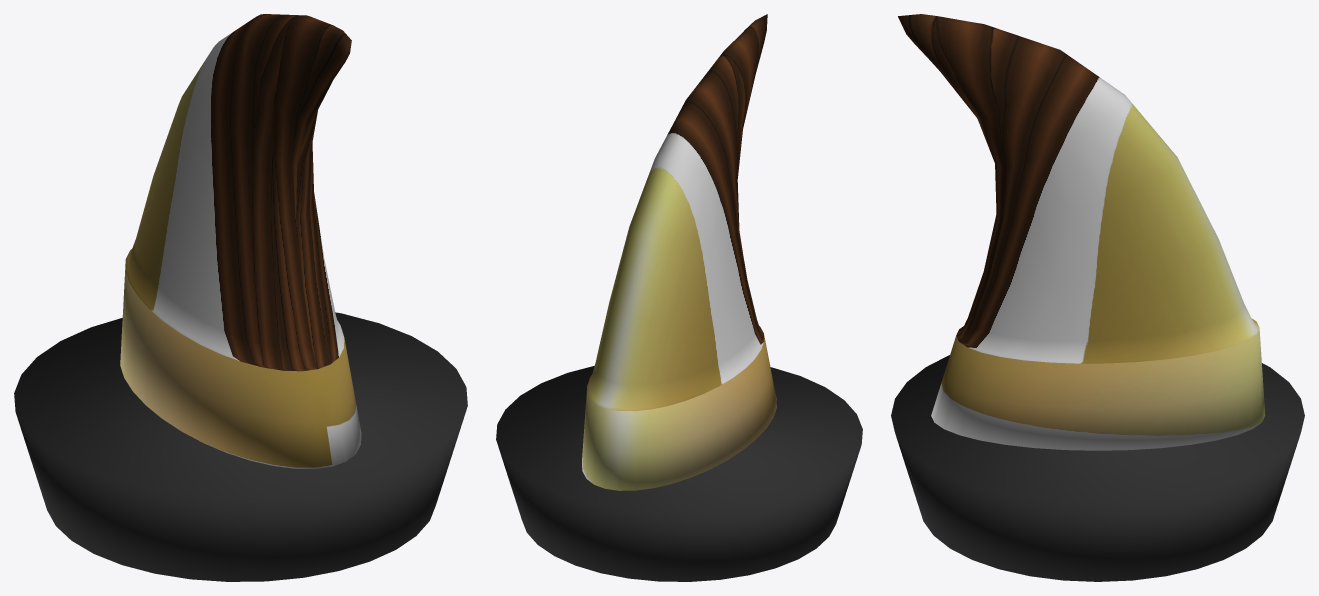
File: tigertooth.gltf
The picture shows the model from 3 angles, left to right: view 1: azimuth 30°, elevation 25°; view 2: azimuth 150°, elevation 25°; view 3: azimuth 270°, elevation 25°; orthographic projection. The views are drawn at different scales.
Size of the model in its own units: 2.43 by 3.18 by 2.43.
2 materials, 1 textured.
